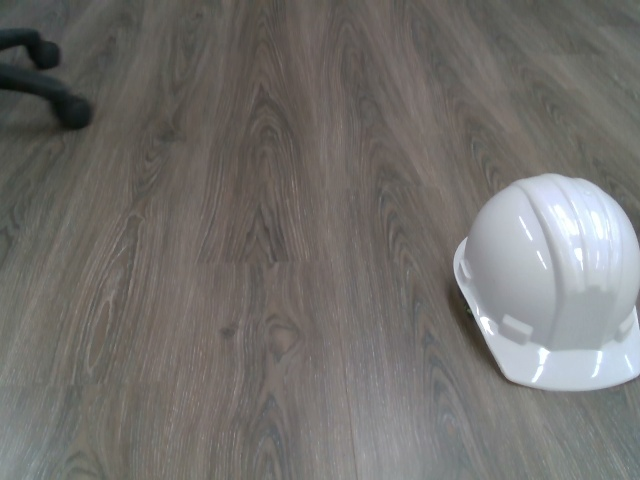helmet: (452, 171, 640, 396)
